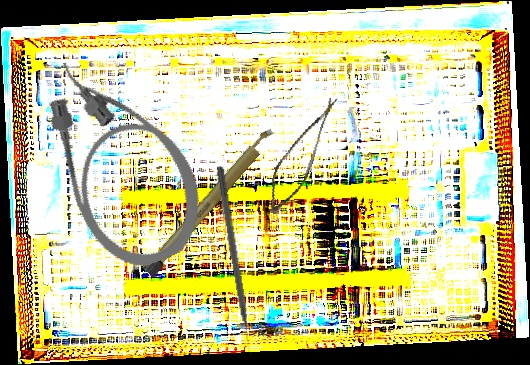Cannula: (26, 33, 219, 282)
Micro Scissor: (262, 85, 339, 222)
Pusher: (214, 165, 254, 357)
Scalpel Handle: (142, 125, 279, 279)
